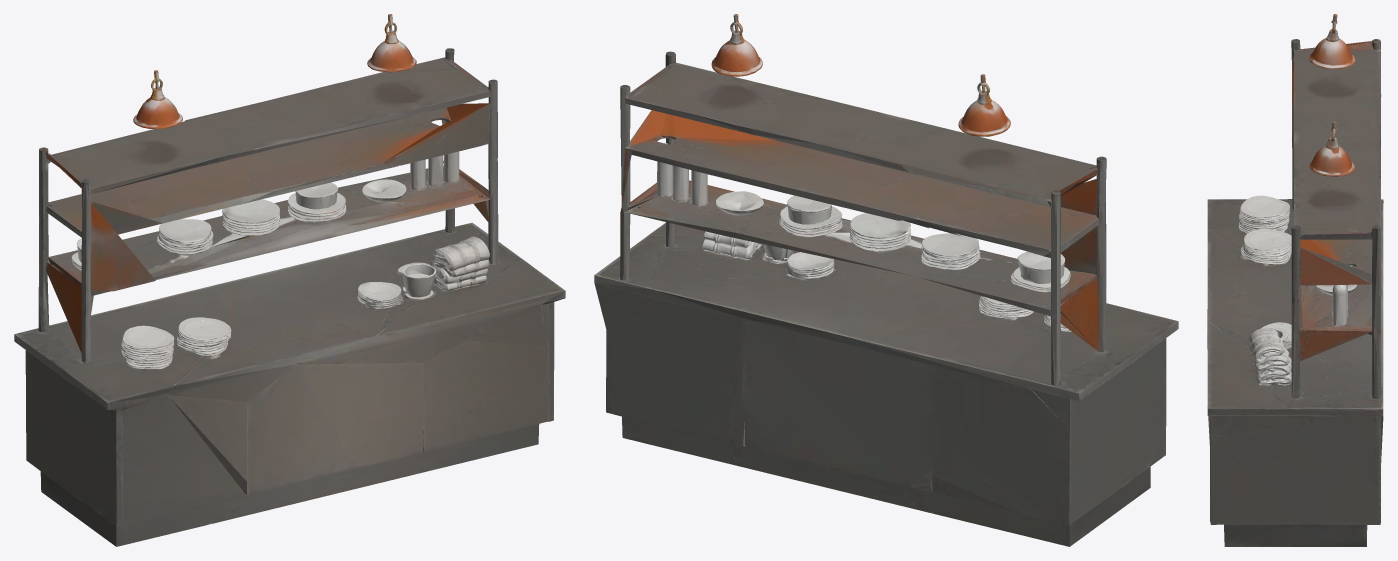
The model's file is srvPass.glb.
3 views of the same model, side by side, from view 1: azimuth 30°, elevation 25°; view 2: azimuth 150°, elevation 25°; view 3: azimuth 270°, elevation 25° (orthographic). The views are drawn at different scales.
Bounding box in the file's own units: 1.9 × 1.62 × 0.6739.
Materials: 1 (1 with a texture image).
